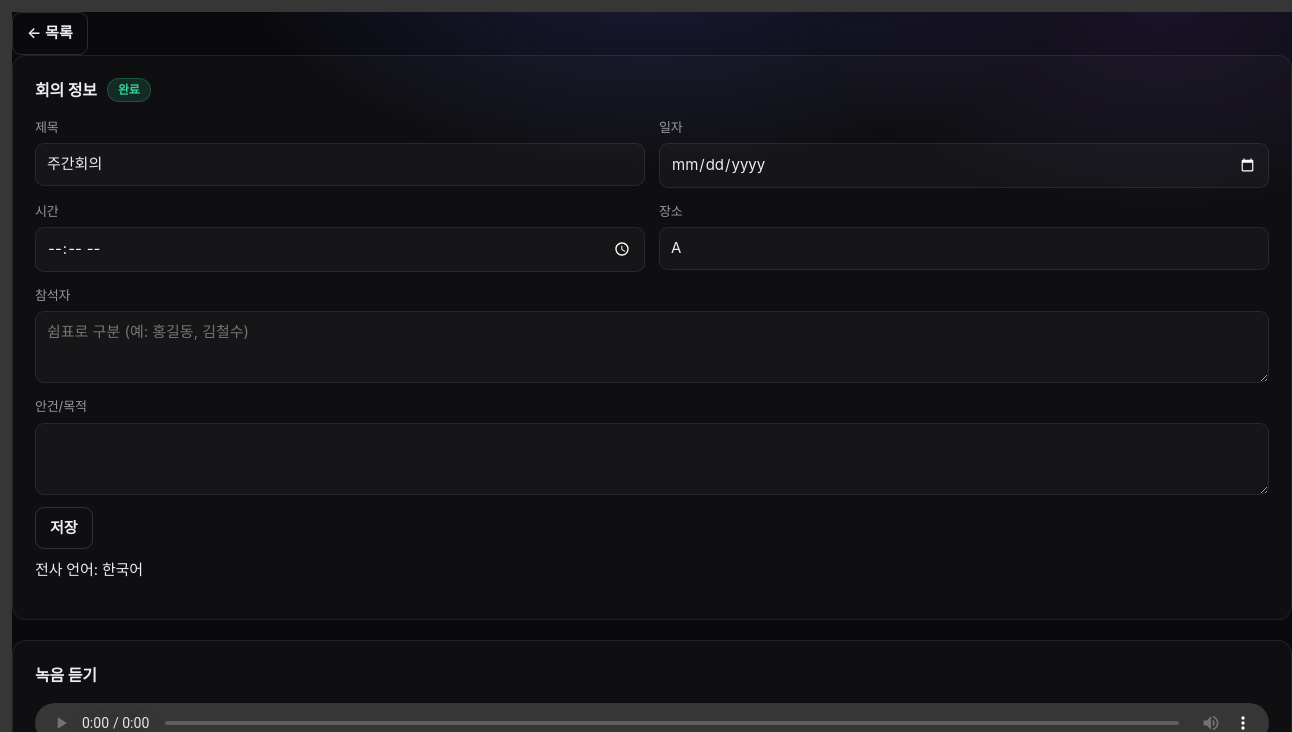
Scenario: RecordingDetail › renders transcript + export link when done and saves title+meta
Expected: the text "전사 언어: 한국어" is shown, [35, 560, 143, 579]
Click the button "저장" at coordinates (64, 528), box [35, 506, 93, 549]
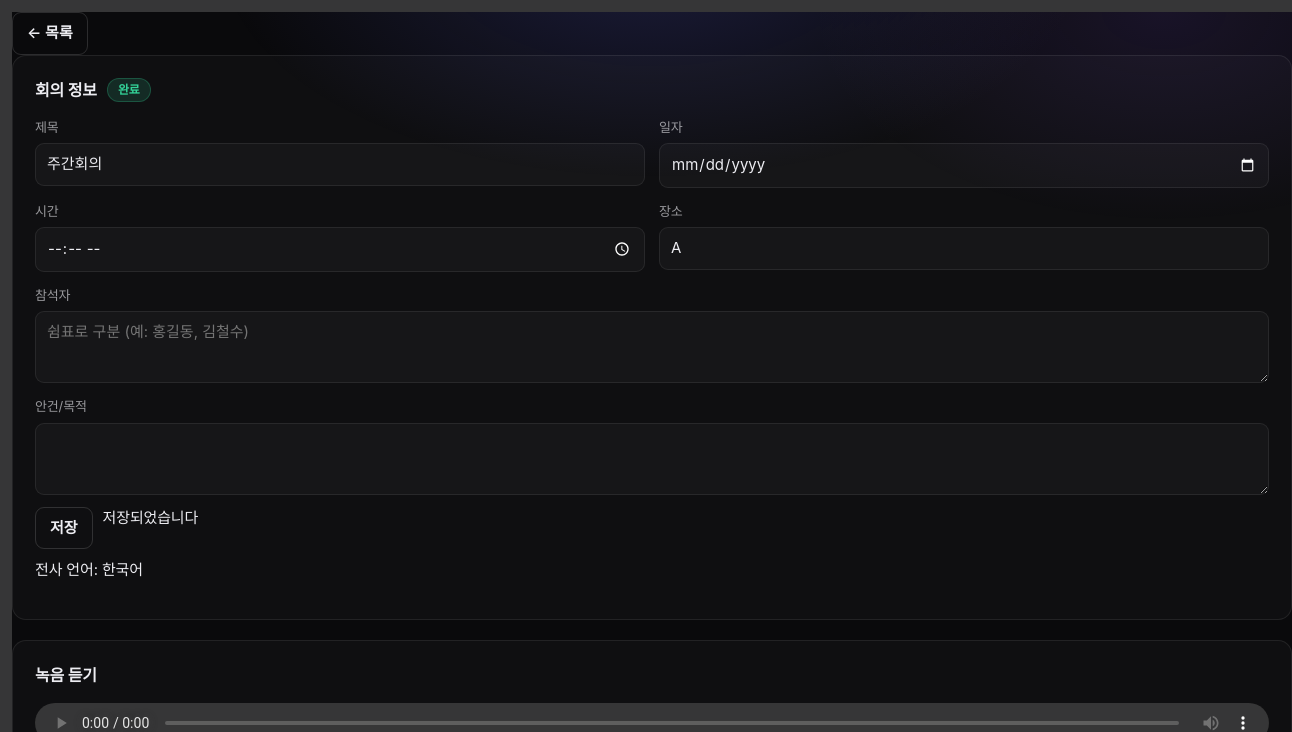
Expected: the text "저장되었습니다" is shown, [103, 508, 198, 526]
